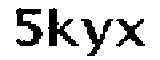5: (13, 5, 45, 52)
k: (46, 4, 81, 50)
x: (115, 14, 150, 51)
y: (79, 14, 113, 60)
